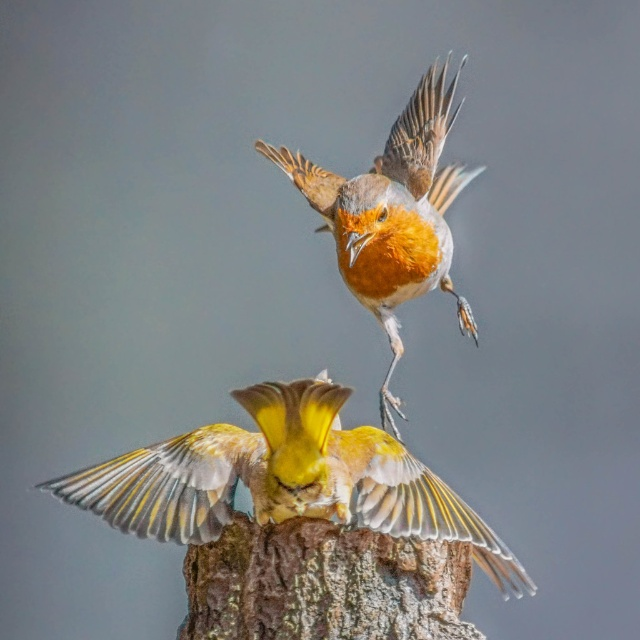Canary: (35, 368, 541, 599), (252, 46, 489, 441)
